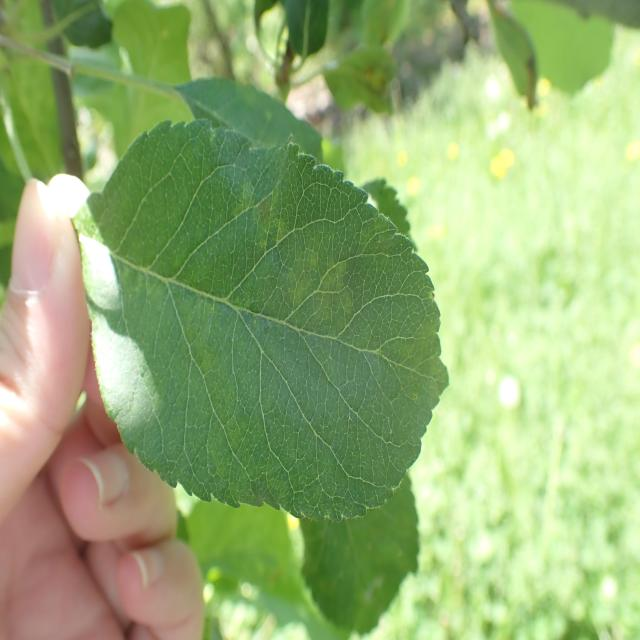scab: (144, 127, 412, 501)
